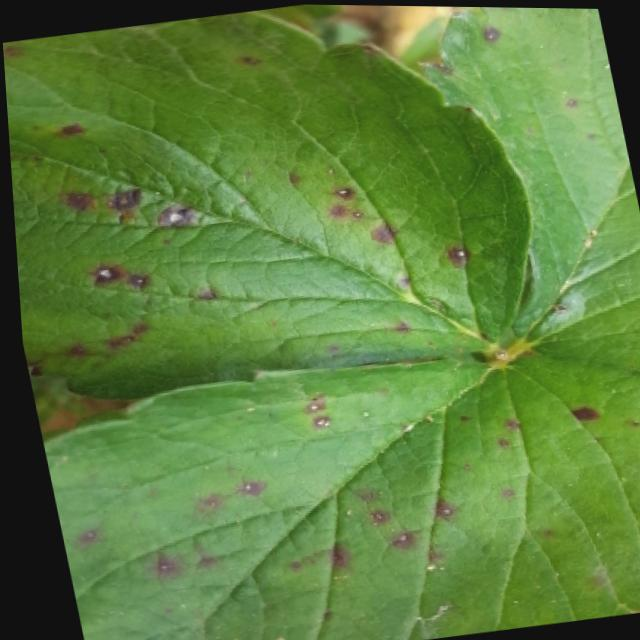Leaf Spot: (2, 10, 529, 401), (37, 350, 640, 640), (408, 5, 640, 371)
